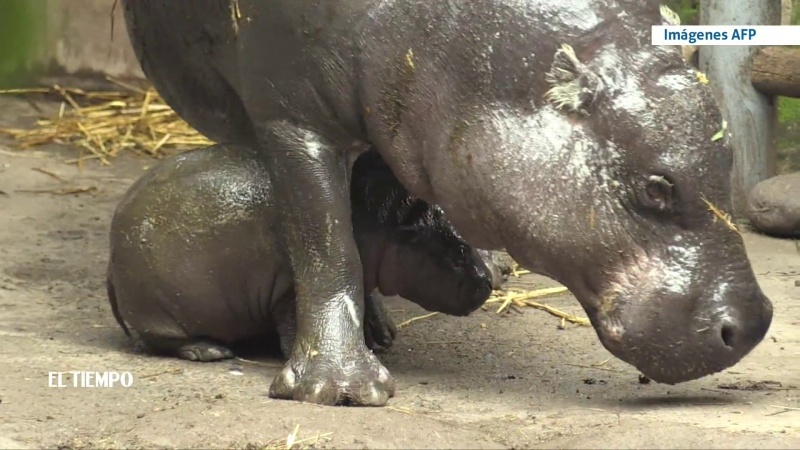hipopotamo: (113, 1, 776, 407), (88, 125, 500, 407)
